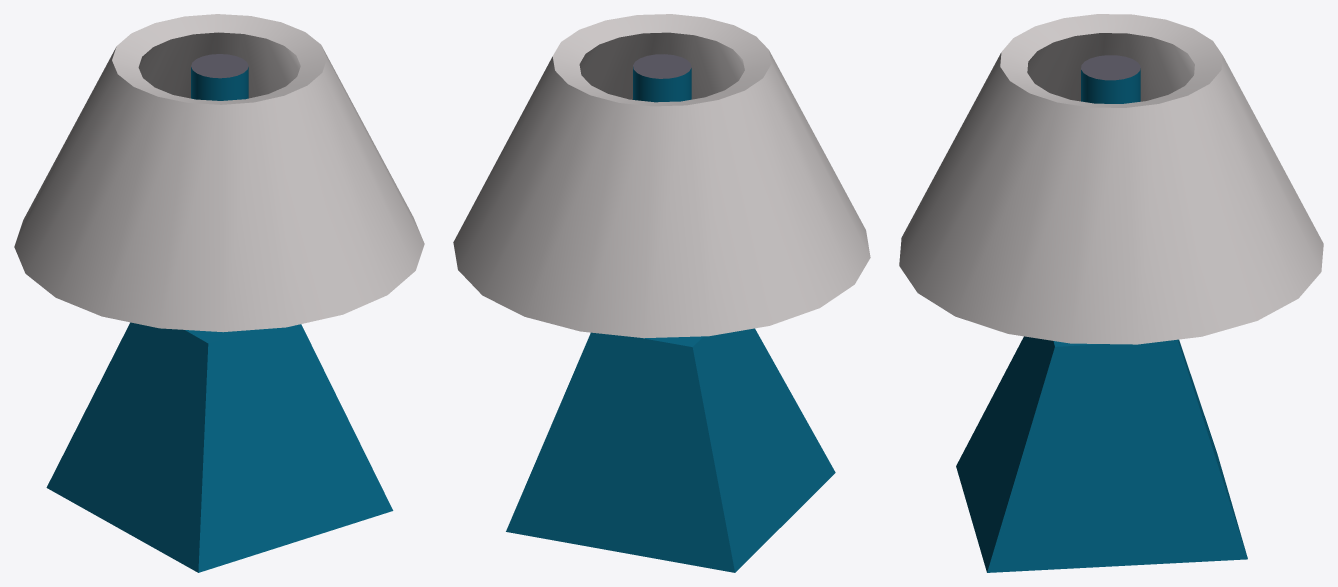
The model's file is lamp.fbx.
3 renders of one model, left to right at view 1: azimuth 30°, elevation 25°; view 2: azimuth 150°, elevation 25°; view 3: azimuth 270°, elevation 25°, orthographic. The views are drawn at different scales.
Parts seen in each view (by area): view 1: lamp:pPipe2; view 2: lamp:pPipe2; view 3: lamp:pPipe2.
Boxes of the visible parts, x1=… form: lamp:pPipe2: x1=14, y1=14, x2=424, y2=572; lamp:pPipe2: x1=453, y1=14, x2=870, y2=572; lamp:pPipe2: x1=899, y1=14, x2=1323, y2=572.
Size of the model in its own units: 0.9037 by 1.07 by 0.9037.
